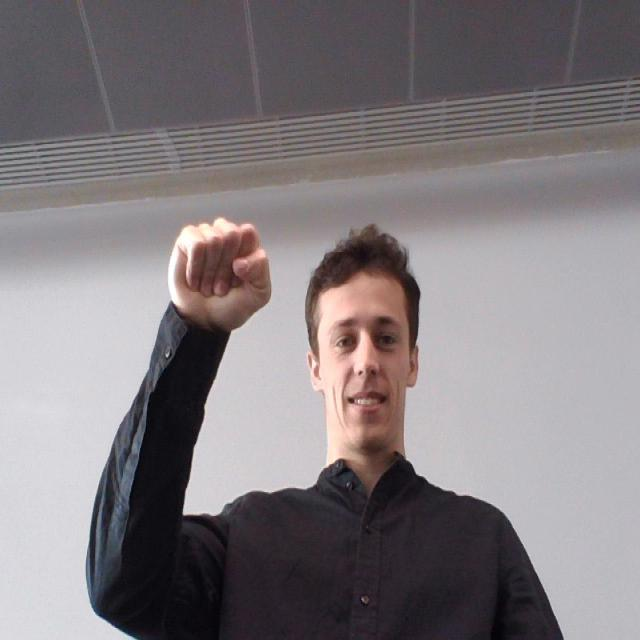stop: (164, 220, 273, 330)
